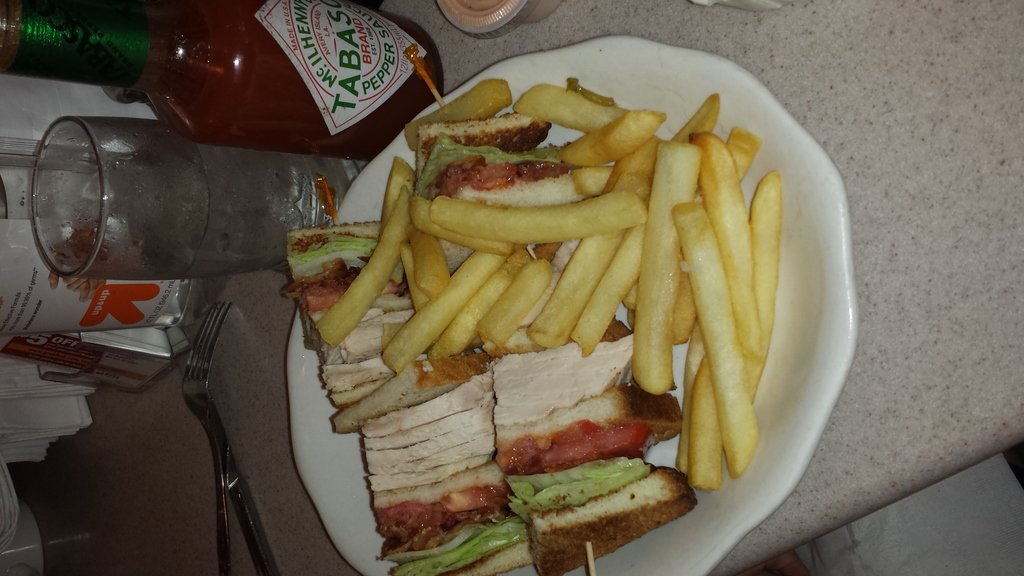French fries: (310, 72, 790, 497)
